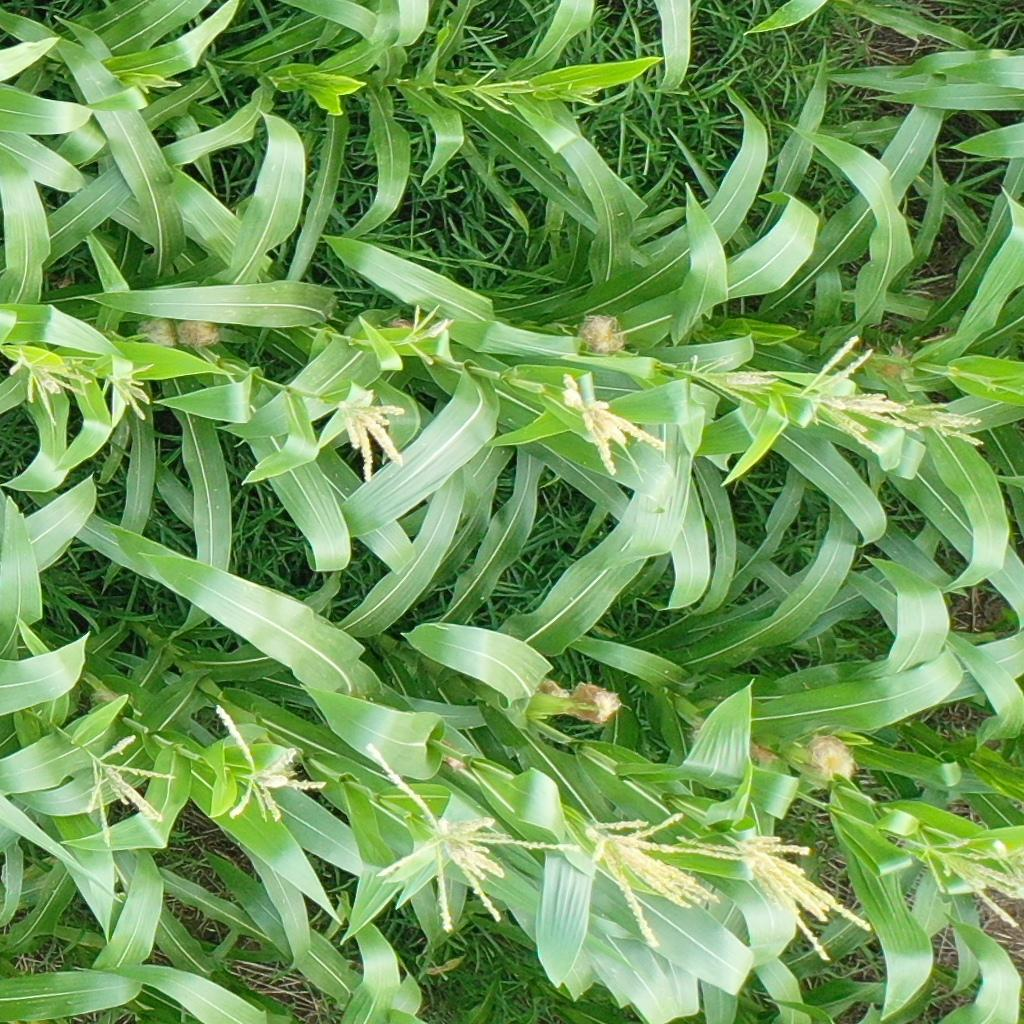Tassel: (365, 742, 581, 934), (676, 828, 872, 961), (581, 810, 749, 948), (797, 335, 919, 452), (213, 704, 328, 823), (560, 374, 665, 478), (84, 736, 175, 852), (921, 839, 1024, 927), (8, 346, 100, 428), (335, 388, 407, 482), (685, 352, 779, 407), (916, 394, 983, 448), (400, 303, 451, 369), (101, 363, 154, 422), (471, 67, 533, 113), (992, 844, 1024, 881), (313, 71, 359, 95), (564, 82, 606, 107), (135, 72, 182, 94)
